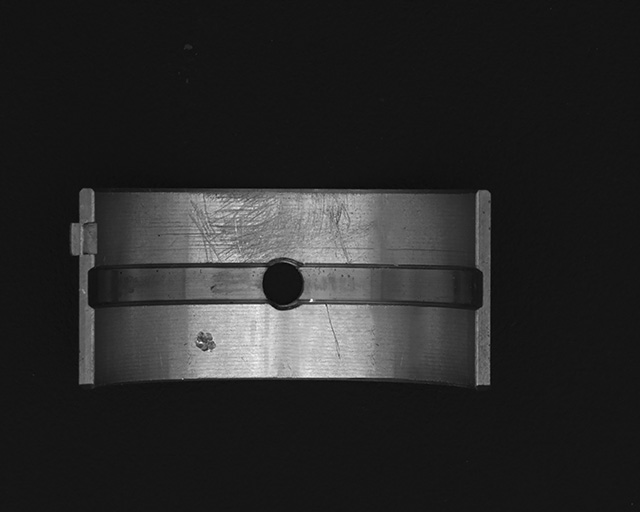bruise: (194, 330, 216, 353)
gap: (299, 264, 482, 308), (88, 264, 268, 306)
hole: (261, 259, 305, 309)
nick: (324, 304, 340, 359)
scratch: (189, 191, 371, 264)
